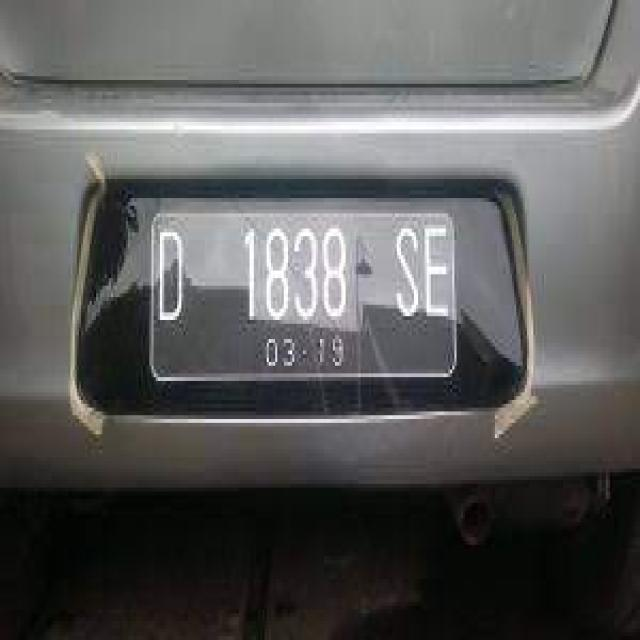license-plat: (130, 160, 495, 427)
